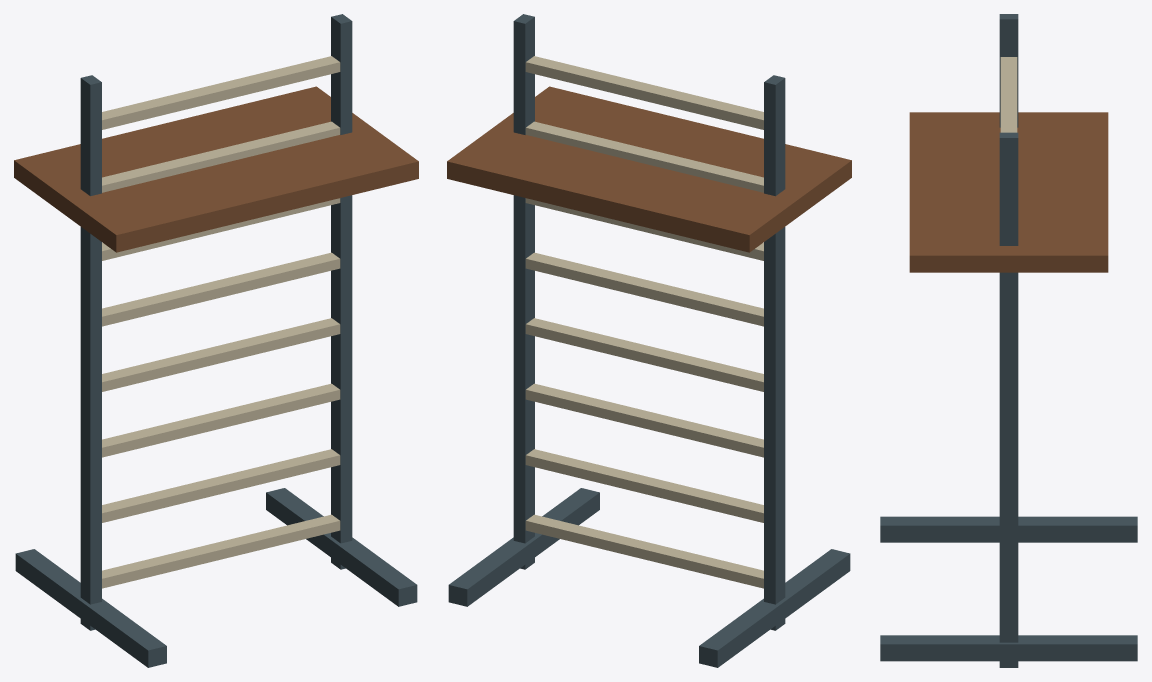
File: scaffold.glb
3 views of the same model, side by side, from view 1: azimuth 30°, elevation 25°; view 2: azimuth 150°, elevation 25°; view 3: azimuth 270°, elevation 25° (orthographic). The views are drawn at different scales.
Parts seen in each view (by area): view 1: scaffold; view 2: scaffold; view 3: scaffold.
Part boxes in pixels (bbox=[...]): scaffold: bbox=[14, 14, 418, 667]; scaffold: bbox=[447, 14, 851, 667]; scaffold: bbox=[880, 14, 1137, 667].
Size of the model in its own units: 1.45 by 2.5 by 1.1.
